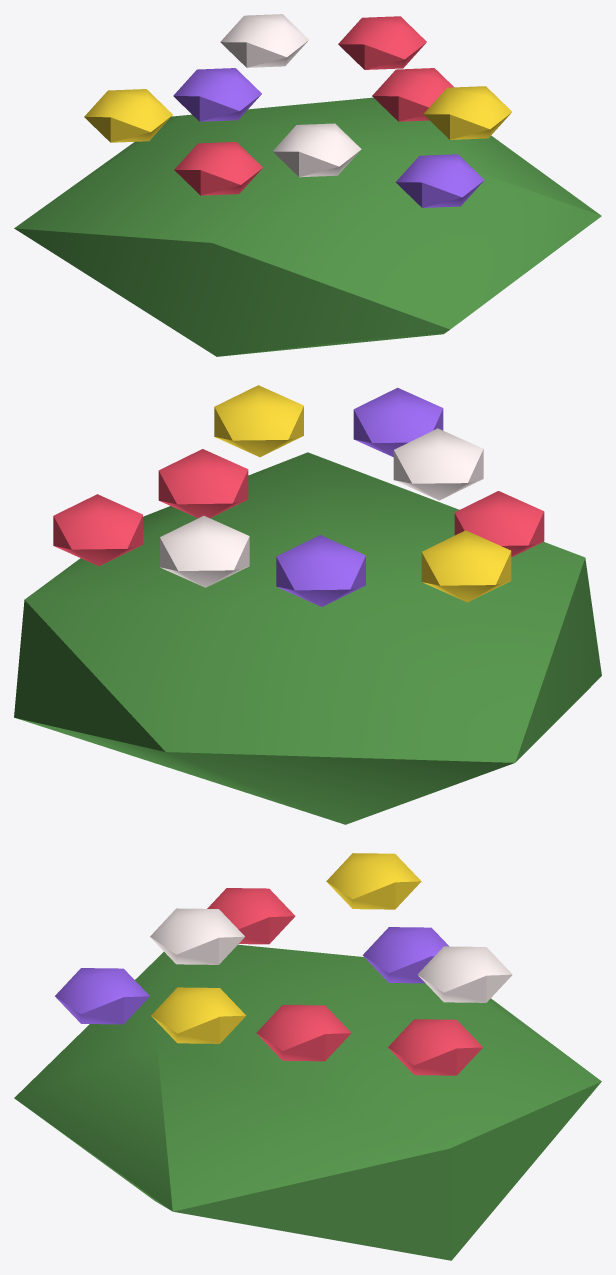
The model's file is flowers.glb.
The picture shows the model from 3 angles, top to bottom: view 1: azimuth 30°, elevation 25°; view 2: azimuth 150°, elevation 25°; view 3: azimuth 270°, elevation 25°; orthographic projection. The views are drawn at different scales.
Visible parts, largest first — view 1: PROP_flowers; view 2: PROP_flowers; view 3: PROP_flowers.
Boxes of the visible parts, left/top/right/bottom form: PROP_flowers: left=14, top=14, right=601, bottom=356; PROP_flowers: left=14, top=385, right=601, bottom=824; PROP_flowers: left=14, top=853, right=601, bottom=1260.
Bounding box in the file's own units: 0.8274 × 0.4119 × 0.862.
